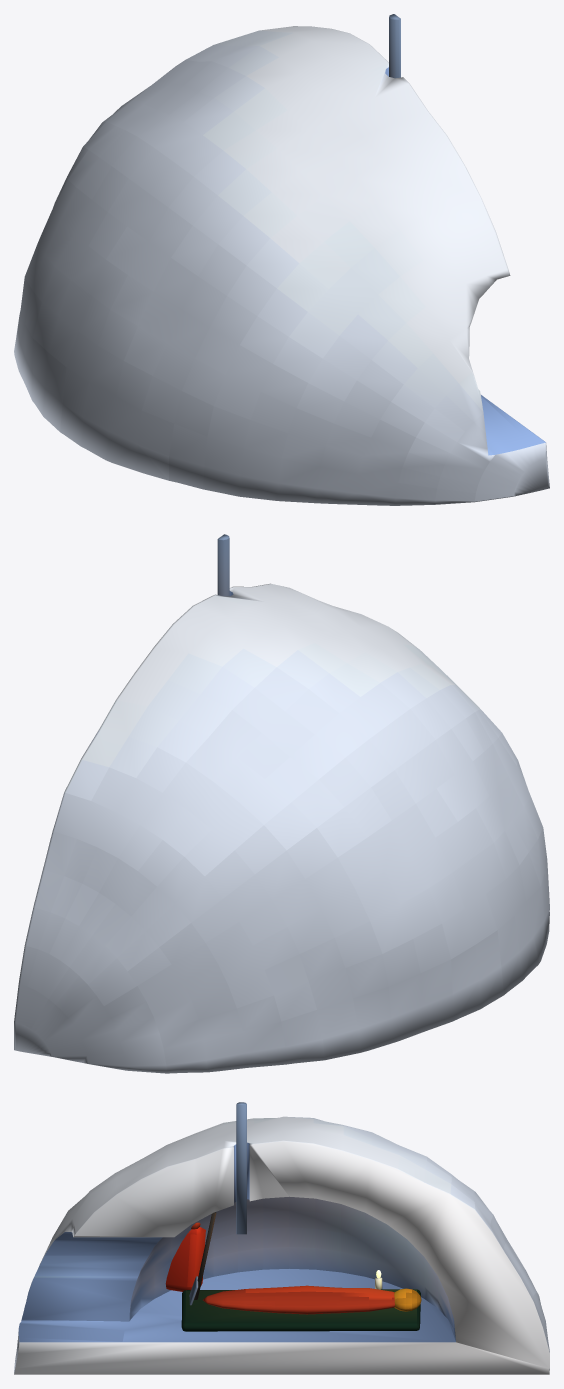
Rendered from BasicCave_section.glb.
The picture shows the model from 3 angles, top to bottom: view 1: azimuth 30°, elevation 25°; view 2: azimuth 150°, elevation 25°; view 3: azimuth 270°, elevation 25°; orthographic projection. The views are drawn at different scales.
Parts seen in each view (by area): view 1: sec_mound, sec_vent; view 2: sec_mound, sec_vent; view 3: sec_mound, sec_bed, sec_bag, sec_pack, sec_vent, sec_pillow, sec_shovel_shaft.
Part boxes in pixels (x1=…): sec_mound: x1=14, y1=26, x2=549, y2=505; sec_vent: x1=389, y1=14, x2=400, y2=78; sec_mound: x1=14, y1=583, x2=549, y2=1073; sec_vent: x1=217, y1=534, x2=229, y2=596; sec_mound: x1=14, y1=1116, x2=549, y2=1374; sec_bed: x1=181, y1=1289, x2=420, y2=1331; sec_bag: x1=203, y1=1285, x2=394, y2=1314; sec_pack: x1=165, y1=1227, x2=205, y2=1291; sec_vent: x1=236, y1=1102, x2=246, y2=1234; sec_pillow: x1=394, y1=1288, x2=421, y2=1311; sec_shovel_shaft: x1=194, y1=1212, x2=216, y2=1299.
Bounding box in the file's own units: 2.25 × 2.5 × 4.5.
